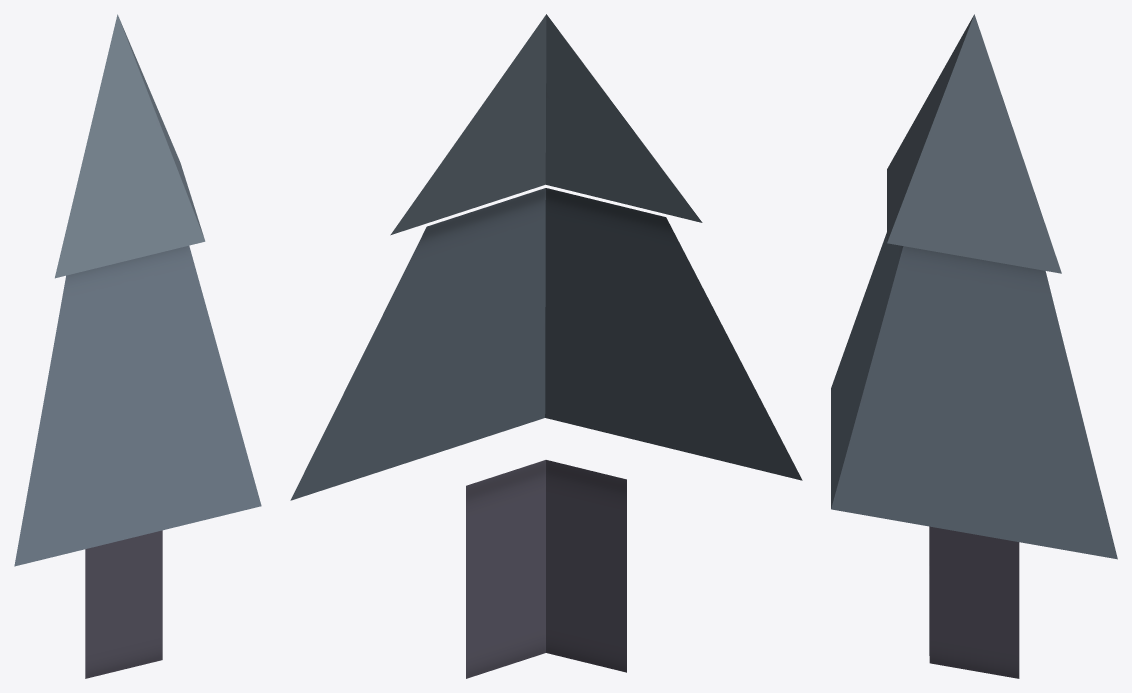
Rendered from Tree_06.FBX.
The picture shows the model from 3 angles, left to right: view 1: azimuth 30°, elevation 25°; view 2: azimuth 150°, elevation 25°; view 3: azimuth 270°, elevation 25°; orthographic projection. The views are drawn at different scales.
Visible parts, largest first — view 1: Tree_06; view 2: Tree_06; view 3: Tree_06.
Part boxes in pixels (x1,y1,x2,y2): Tree_06: (14, 14, 261, 678); Tree_06: (290, 14, 802, 678); Tree_06: (831, 14, 1117, 678).
Bounding box in the file's own units: 10.78 × 18.74 × 7.64.
